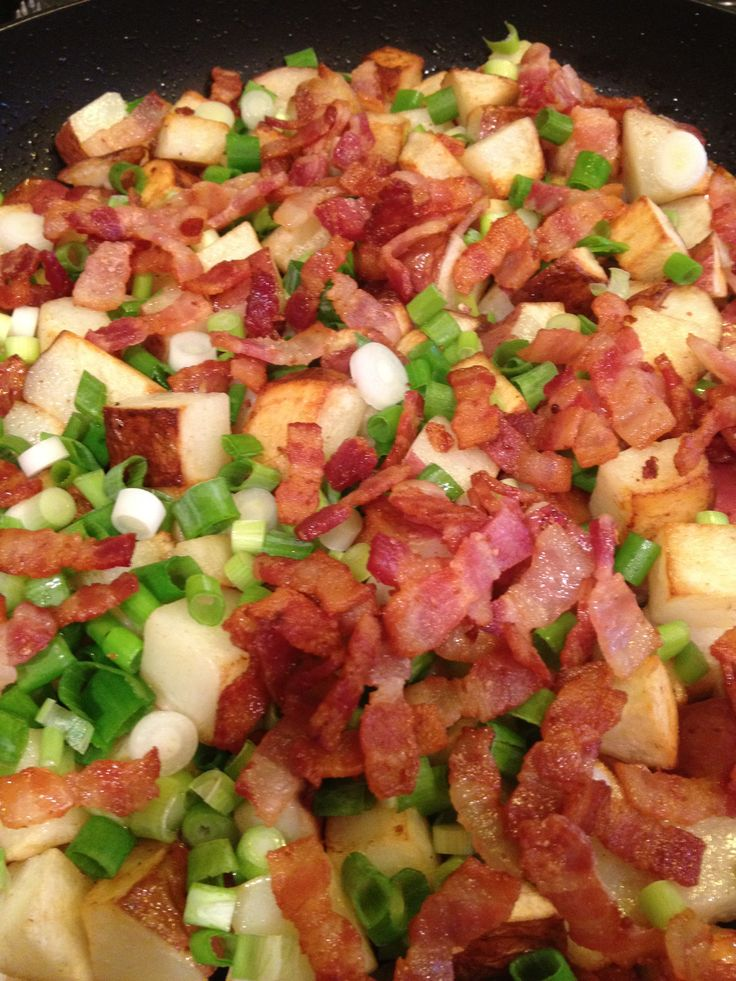boiled potatoes: (1, 839, 230, 980), (38, 343, 166, 454), (592, 439, 717, 549), (229, 369, 369, 459), (113, 395, 230, 487), (653, 510, 736, 636), (605, 663, 686, 786), (611, 193, 698, 286), (152, 109, 235, 173)
